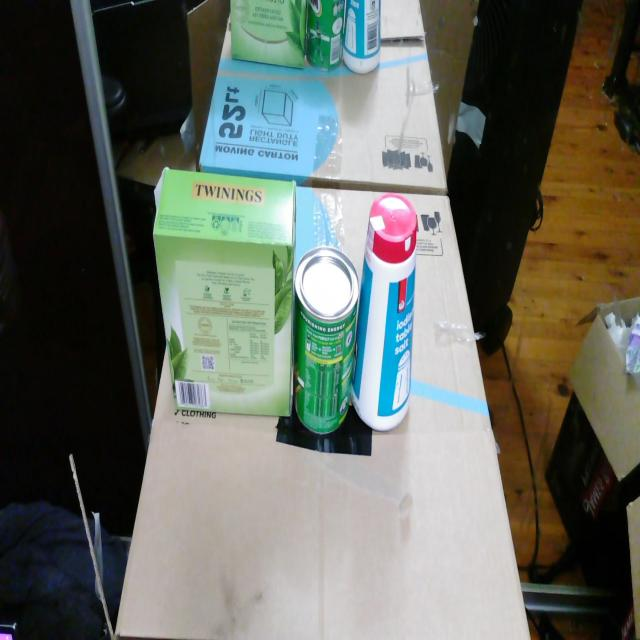nestle_milo_tin: (293, 247, 360, 434)
twinings_greentea_box: (153, 169, 296, 417)
woolworths_salt_bottle: (351, 193, 418, 430)
